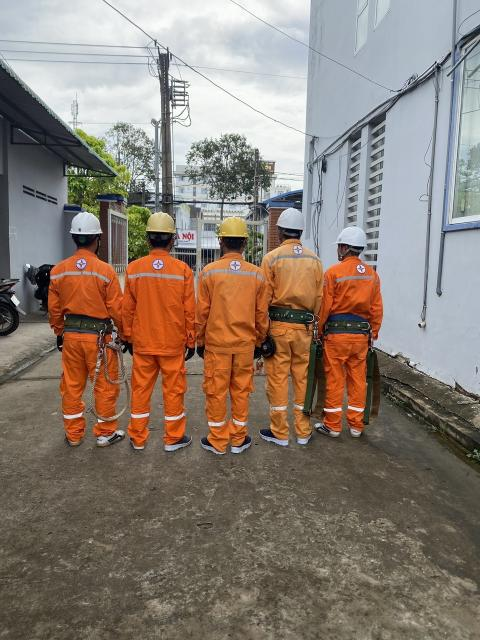gloves: (192, 343, 208, 362), (52, 335, 68, 352), (182, 343, 196, 361), (116, 338, 128, 354), (253, 343, 262, 361), (126, 341, 134, 355)
harness: (320, 312, 380, 340), (57, 308, 118, 333), (264, 300, 315, 329)
helmet: (135, 205, 180, 242), (62, 211, 108, 238), (333, 224, 373, 252), (215, 209, 253, 238), (273, 205, 311, 228)
shoes: (88, 425, 126, 445), (258, 425, 291, 448), (161, 431, 195, 453), (197, 432, 228, 456), (311, 420, 344, 440), (229, 434, 254, 454), (61, 430, 86, 449), (128, 432, 148, 453), (346, 419, 365, 441), (294, 428, 314, 445)
